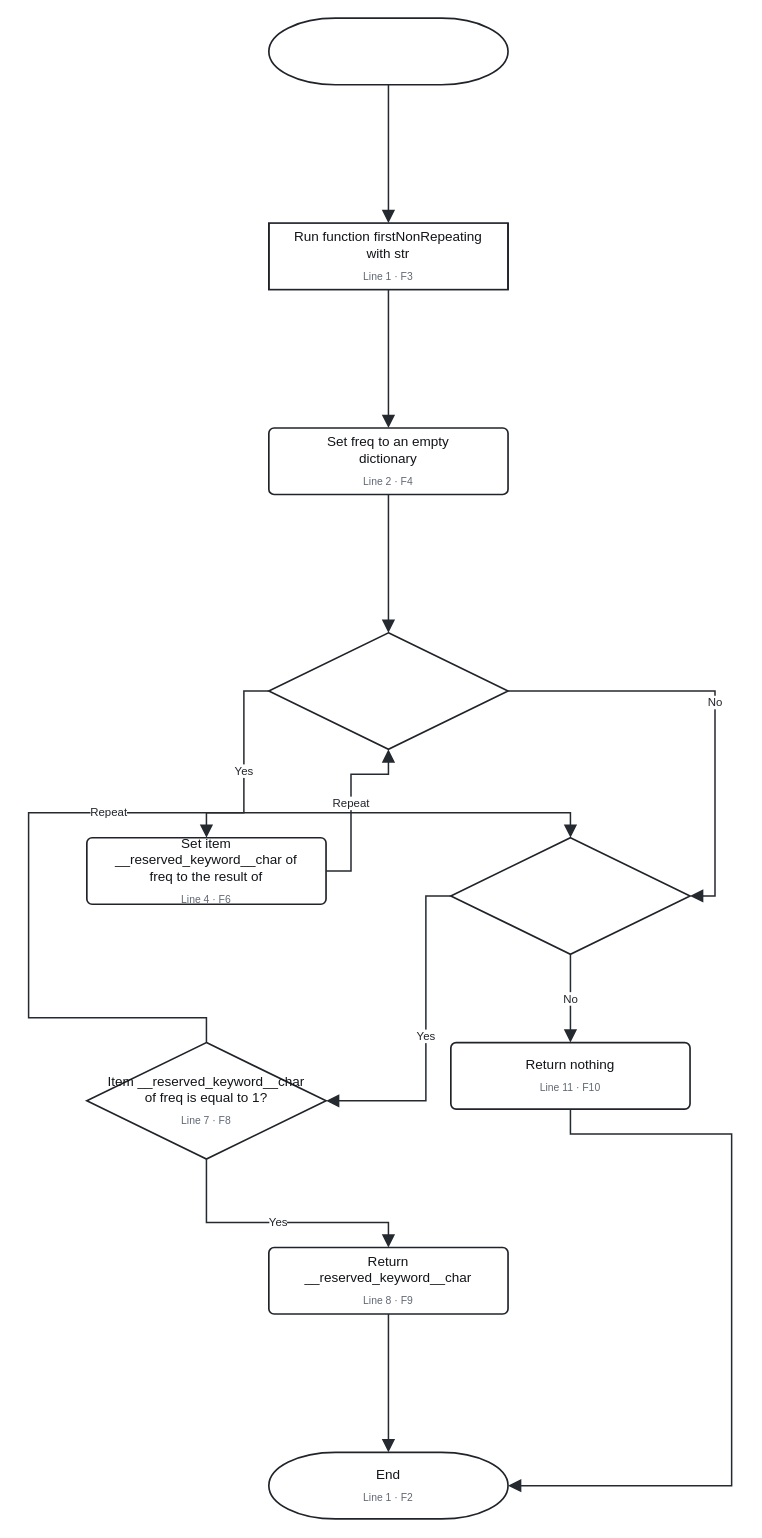
The diagram is 762 pixels wide and 1538 high, and some of its shapes have lost their labels. Here are the shapes that lost their labels. From the top down, the centre of each, then its label:
At pixel 387 51: "Start Line 1 · F1".
At pixel 387 690: "For each __reserved_keyword__char in str Line 3 · F5".
At pixel 569 895: "For each __reserved_keyword__char in str Line 6 · F7".
